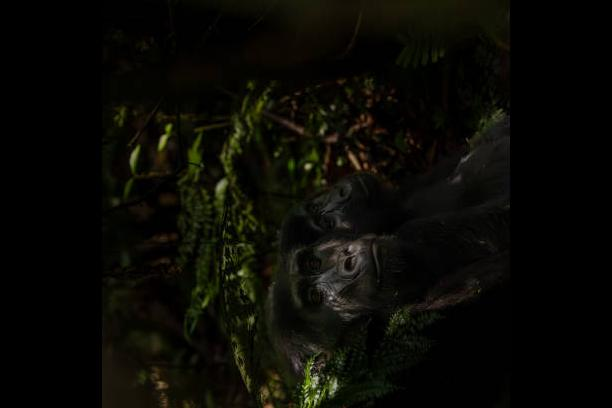gorille_Autres: (235, 128, 510, 382)
